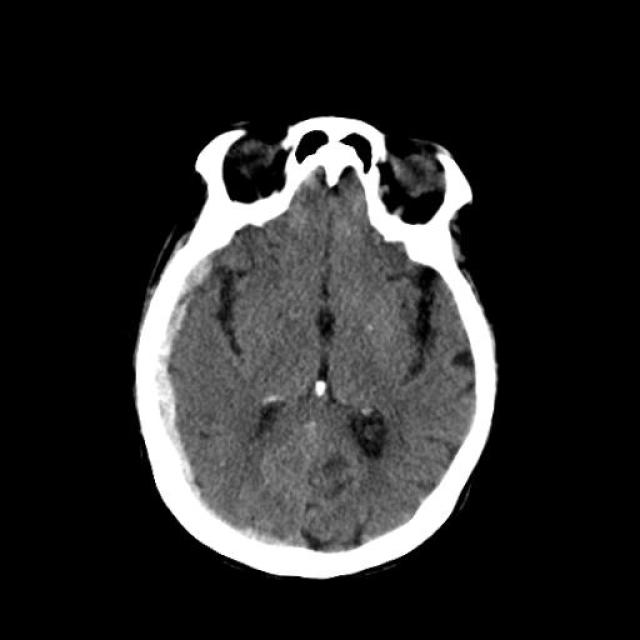Subdural: (136, 247, 220, 508)
